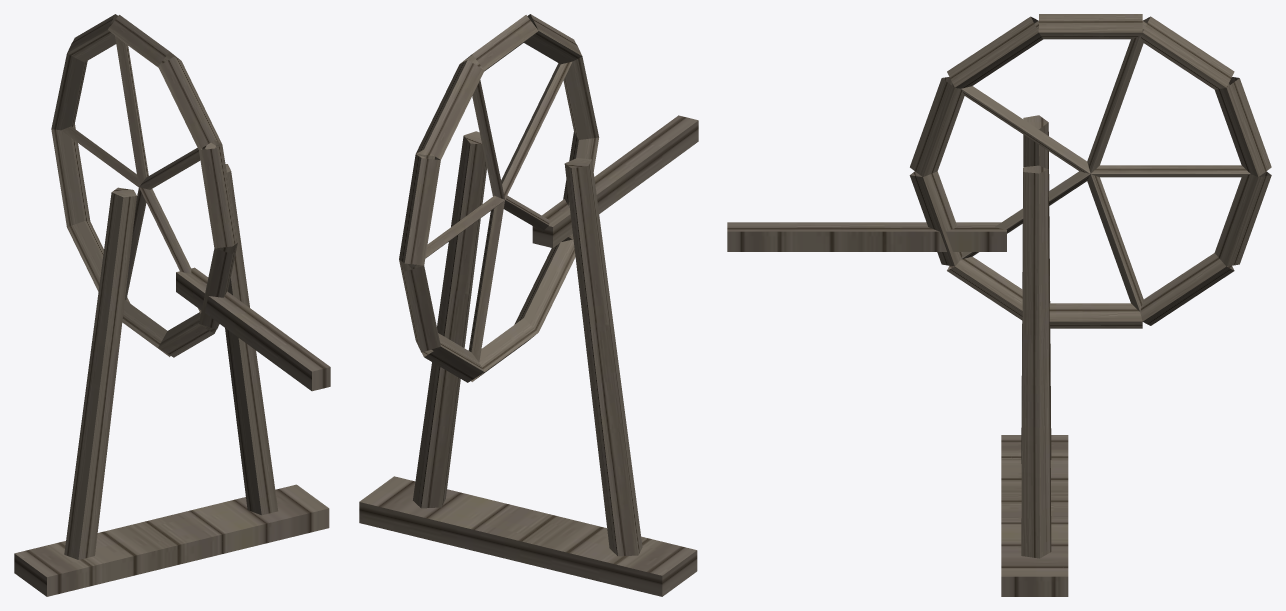
Rendered from spinning_wheel_01.glb.
3 views of the same model, side by side, from view 1: azimuth 30°, elevation 25°; view 2: azimuth 150°, elevation 25°; view 3: azimuth 270°, elevation 25° (orthographic). The views are drawn at different scales.
Parts seen in each view (by area): view 1: spinning_wheel_01; view 2: spinning_wheel_01; view 3: spinning_wheel_01.
Part boxes in pixels (box(x1,y1,x2,y2)): spinning_wheel_01: box(14, 14, 330, 596); spinning_wheel_01: box(359, 14, 698, 596); spinning_wheel_01: box(727, 14, 1271, 596).
Size of the model in its own units: 0.6 by 1.01 by 0.9737.
1 material, 1 textured.
